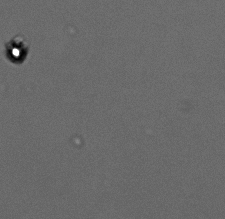Living Cell: (6, 41, 27, 64)
